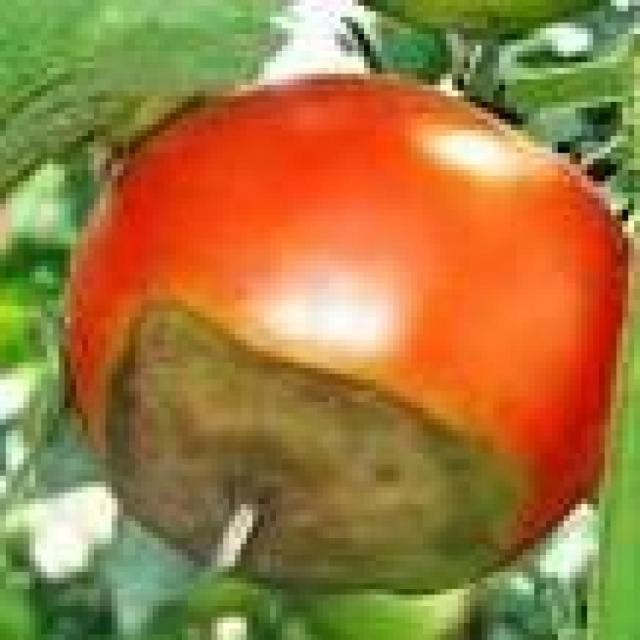Blossom End Rot Fruit: (61, 191, 339, 395)
